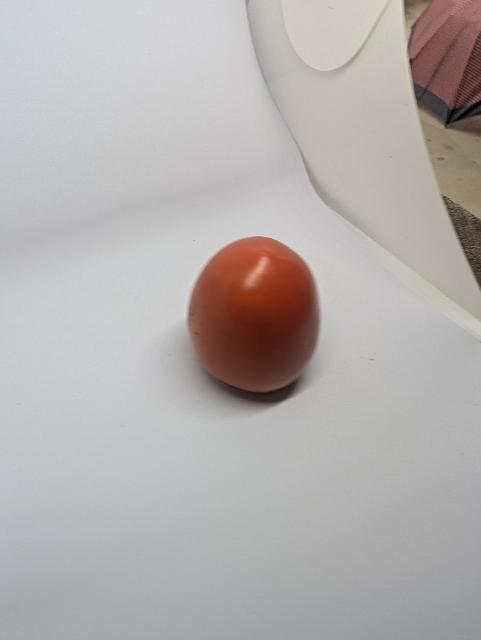red: (165, 220, 351, 407)
